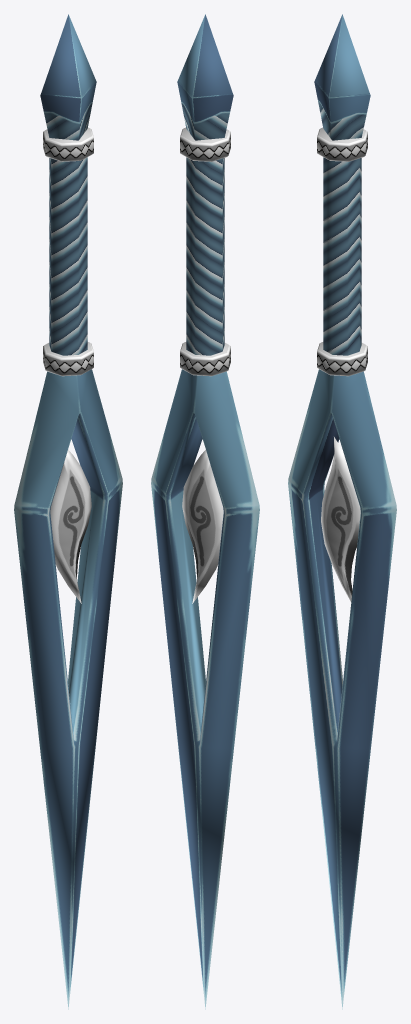
Rendered from Weapon_JiangYeWeapon_fbx.FBX.
3 renders of one model, left to right at view 1: azimuth 30°, elevation 25°; view 2: azimuth 150°, elevation 25°; view 3: azimuth 330°, elevation 25°, orthographic.
Visible parts, largest first — view 1: JiangYeWeapon; view 2: JiangYeWeapon; view 3: JiangYeWeapon.
Boxes of the visible parts, x1,y1,x2,y2 form: JiangYeWeapon: (14, 14, 122, 1009); JiangYeWeapon: (151, 14, 259, 1009); JiangYeWeapon: (288, 14, 396, 1009).
Size of the model in its own units: 0.0777 by 0.6792 by 0.0332.
